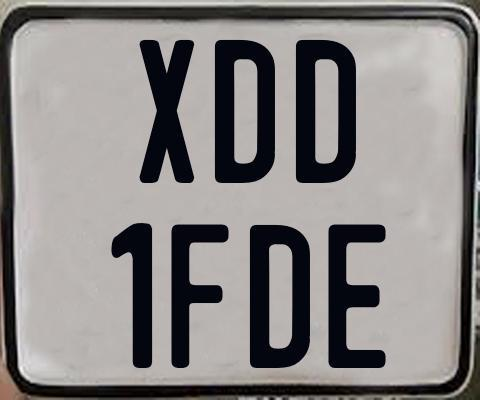1: (109, 223, 155, 370)
D: (294, 37, 358, 180), (212, 40, 275, 183), (248, 225, 309, 369)
E: (327, 221, 386, 367)
F: (171, 222, 235, 370)
X: (138, 39, 195, 183)
